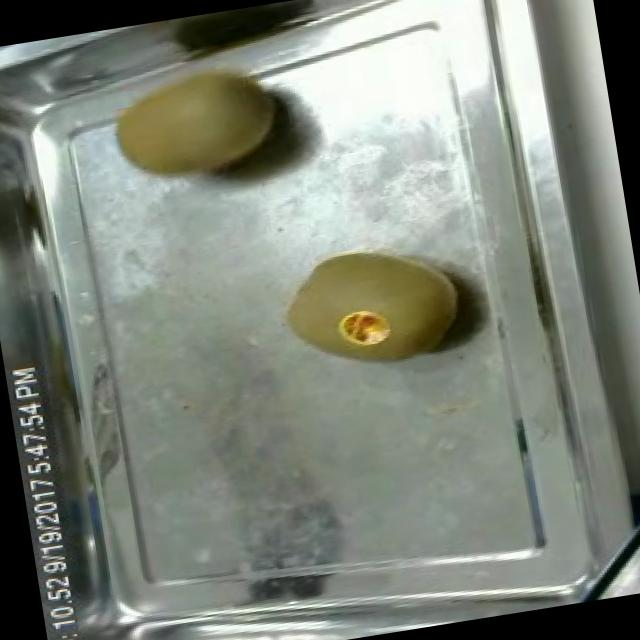Fruit: (90, 32, 304, 205), (267, 224, 474, 388)
